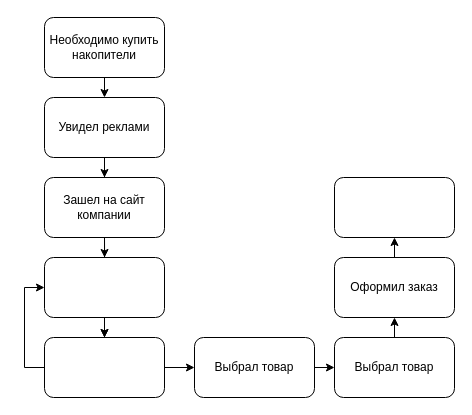
Image size: 472x415. Some labels were removed from this diagram. Each missing label, with the centre of its shape:
Изучил товар: (x=104, y=367)
Оплатил товар: (x=394, y=207)
Поиск интересного товара: (x=104, y=287)
